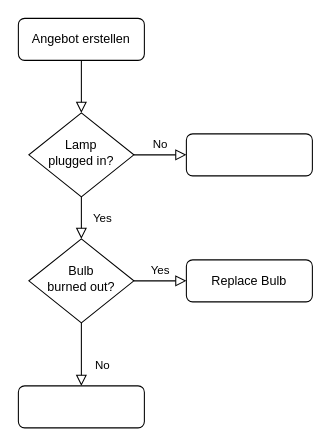
This 331x446 diagram has some shape labels left out. Each missing label, with the centre of its shape:
Plug in lamp: (248,154)
Repair Lamp: (80,406)
